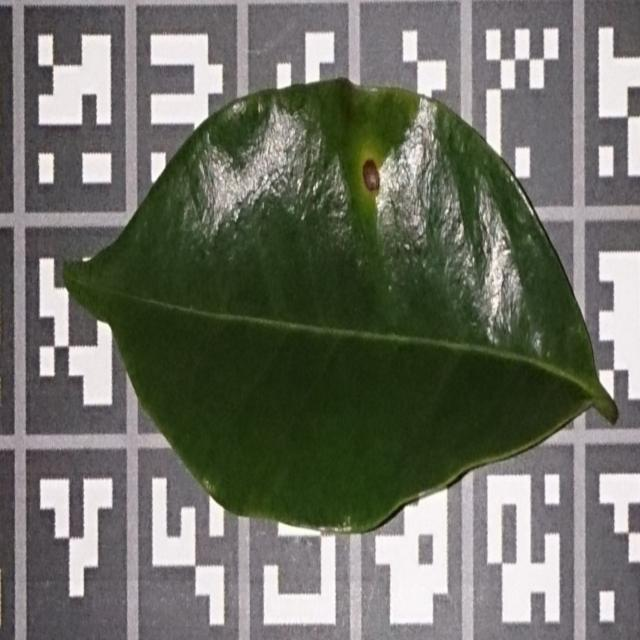Enfermedad-Mancha-de-hierro: (60, 79, 619, 537)
